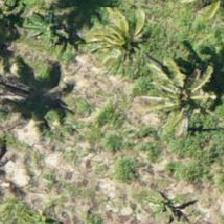coconut_tree: (146, 37, 223, 127), (68, 0, 158, 71)
